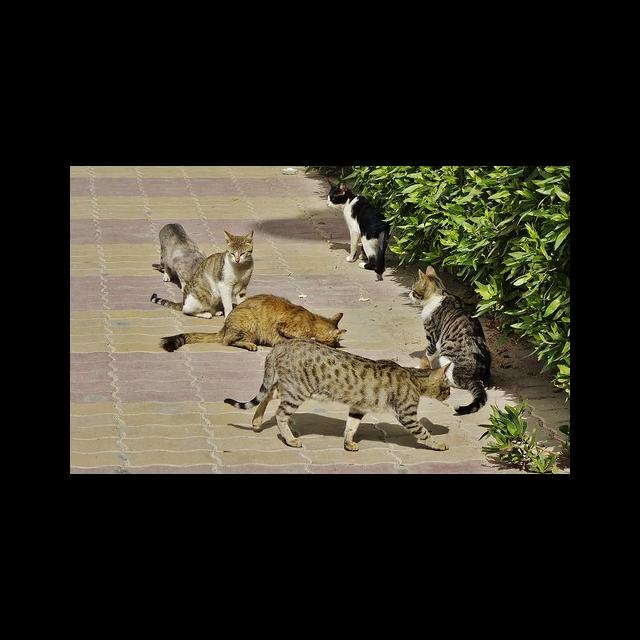animals: (218, 334, 455, 452), (138, 226, 283, 317), (407, 266, 492, 417), (214, 278, 355, 355), (322, 176, 390, 274), (155, 218, 193, 288)
